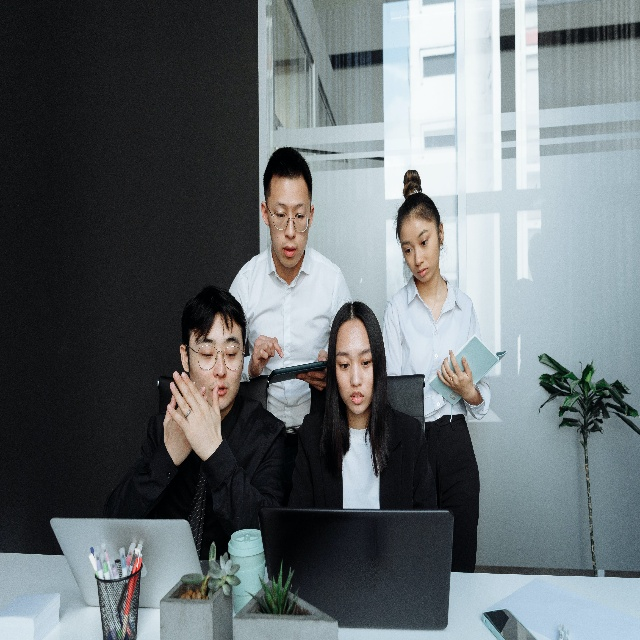Gafas: (184, 344, 245, 372), (265, 201, 311, 233)
Sin_guantes: (167, 372, 222, 458), (164, 394, 191, 463), (436, 350, 474, 398), (296, 348, 328, 393), (250, 334, 283, 376)
